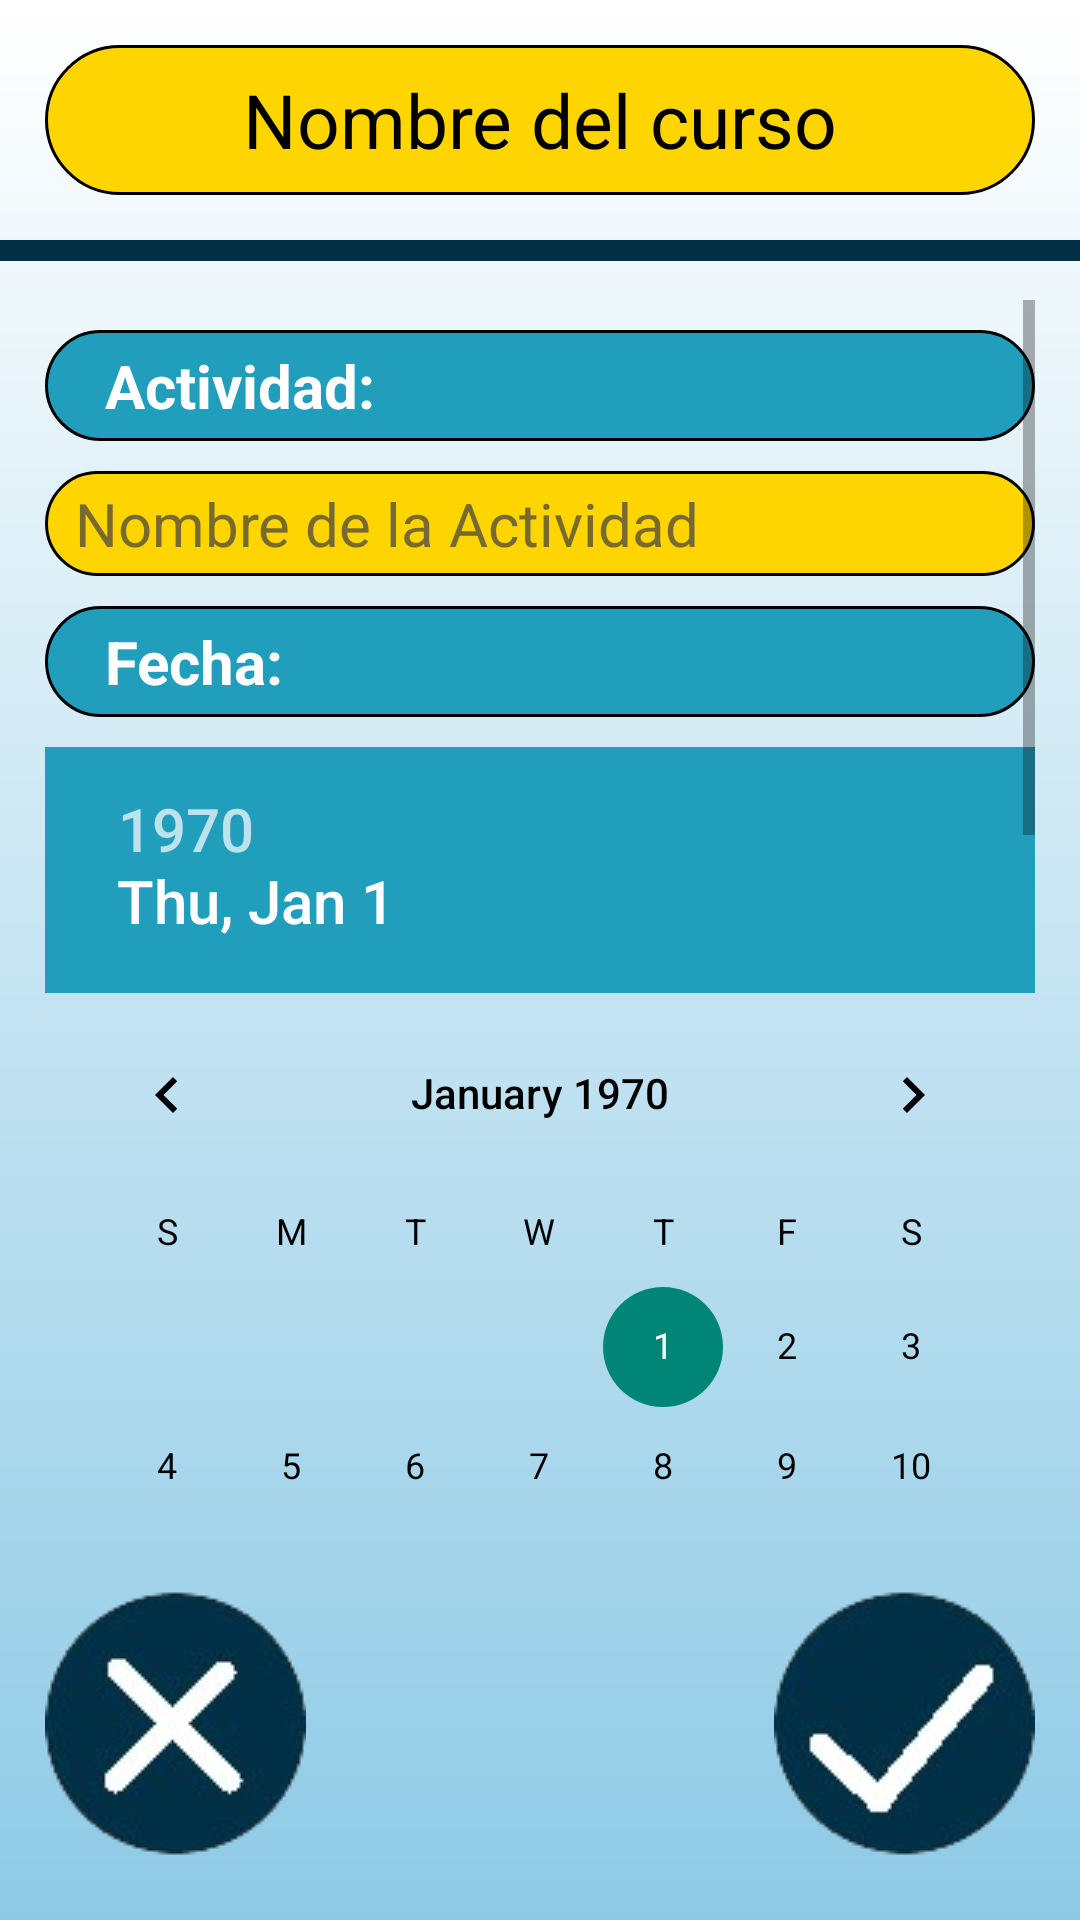

Locate icon controls on the screen. Image size 1080px×1920px, boxes as [x1=x1, y1=y1, x2=x2, y2=y2].
cancel: [x1=45, y1=1592, x2=306, y2=1855]
check: [x1=774, y1=1592, x2=1035, y2=1855]
